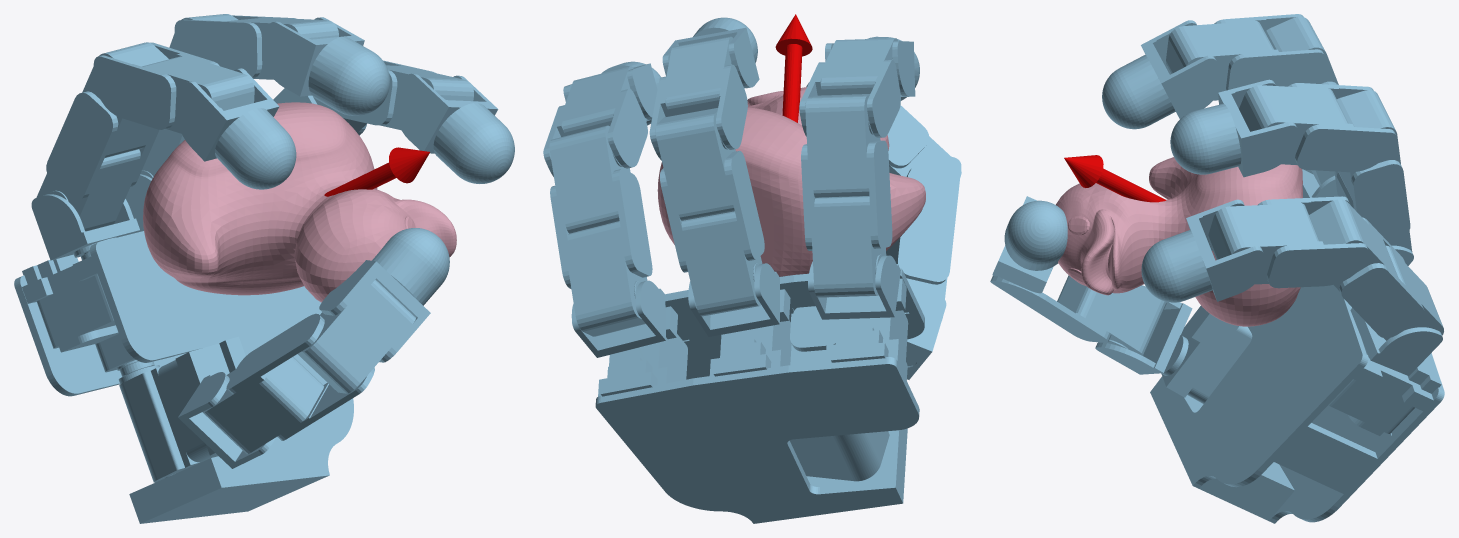
3 renders of one model, left to right at view 1: azimuth 30°, elevation 25°; view 2: azimuth 150°, elevation 25°; view 3: azimuth 270°, elevation 25°, orthographic. The views are drawn at different scales.
Parts seen in each view (by area): view 1: world, rubber_duck.stl; view 2: world, rubber_duck.stl; view 3: world, rubber_duck.stl.
Boxes of the visible parts, <box> form: world: <box>14,14,514,523</box>; rubber_duck.stl: <box>143,102,456,302</box>; world: <box>543,14,961,523</box>; rubber_duck.stl: <box>657,87,925,276</box>; world: <box>990,14,1444,523</box>; rubber_duck.stl: <box>1056,157,1302,326</box>.
Bounding box in the file's own units: 0.1616 × 0.1865 × 0.1683.
